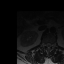CCS_normal: (48, 41, 49, 50)
LFS_normal: (51, 42, 53, 47)
LLS_normal: (49, 42, 51, 49)
RFS_normal: (44, 41, 46, 47)
RLS_normal: (46, 42, 48, 48)
